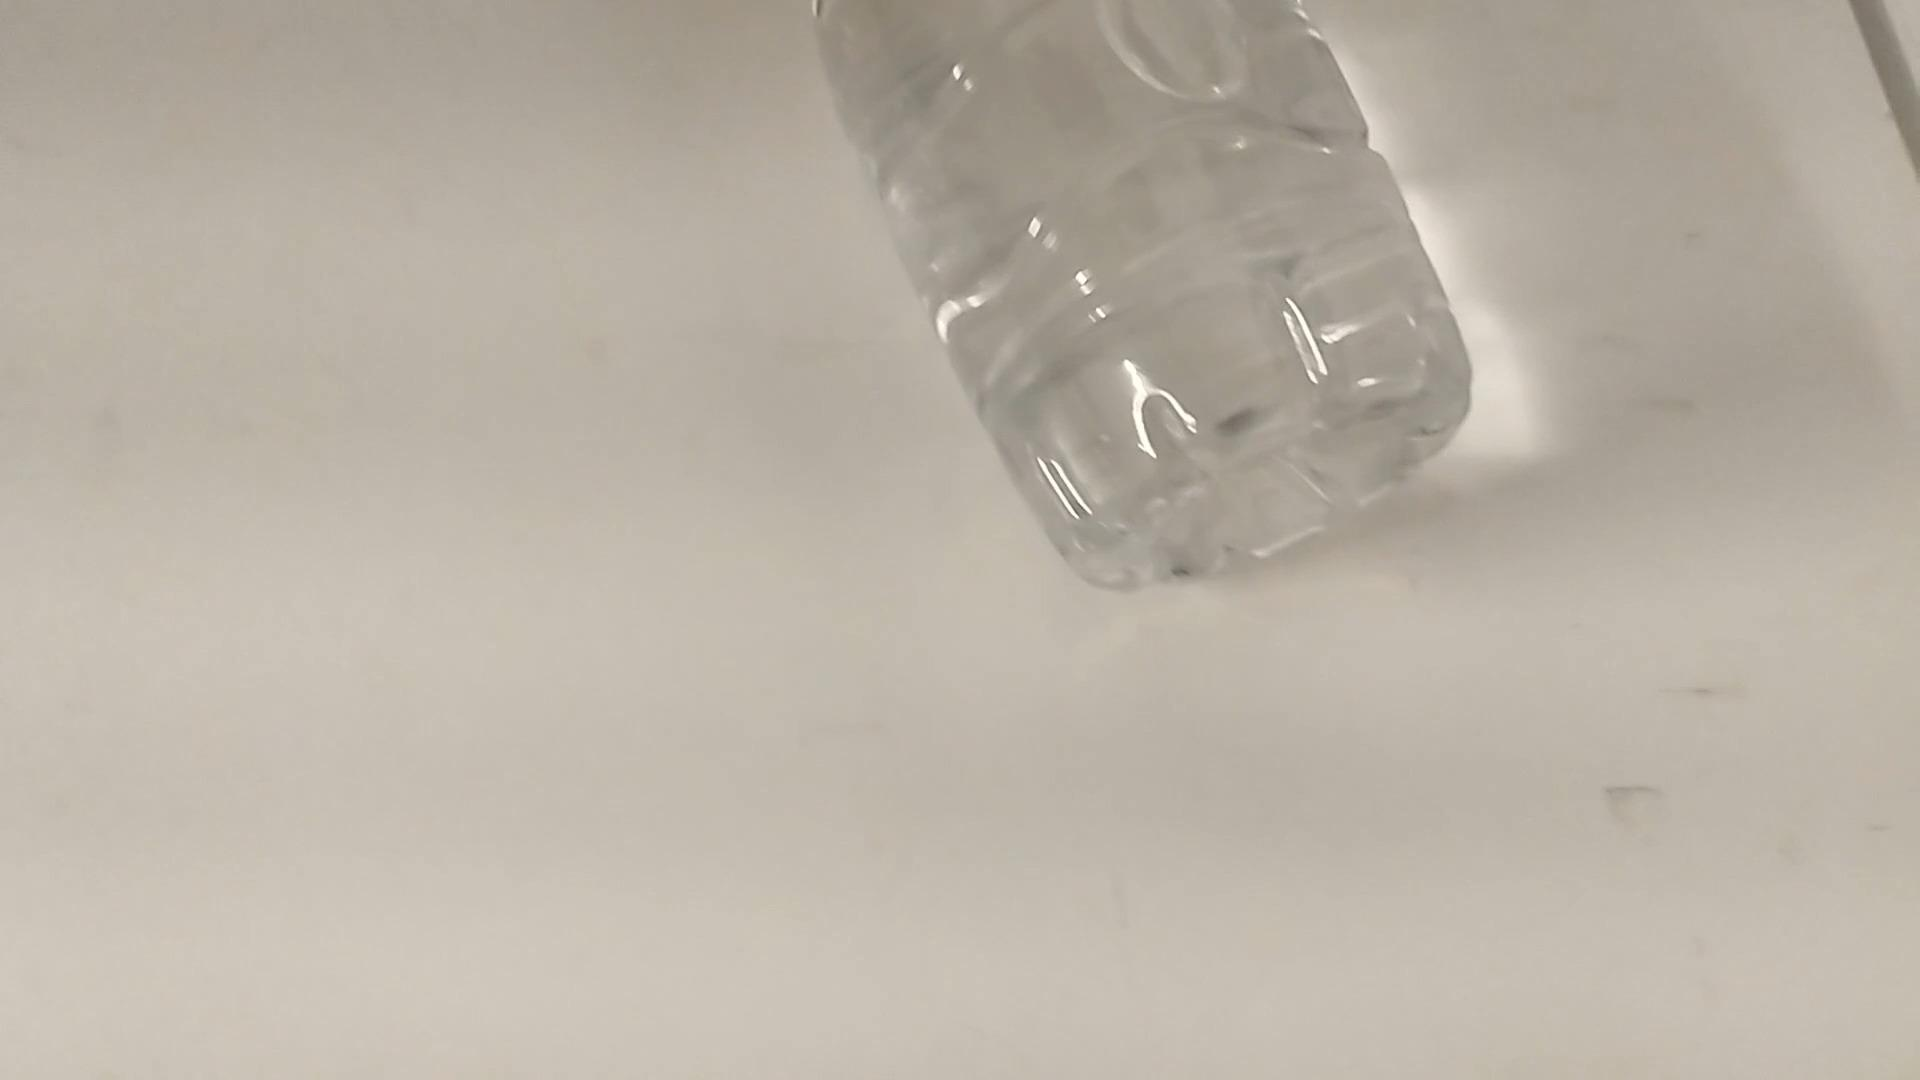agua: (789, 0, 1489, 601)
